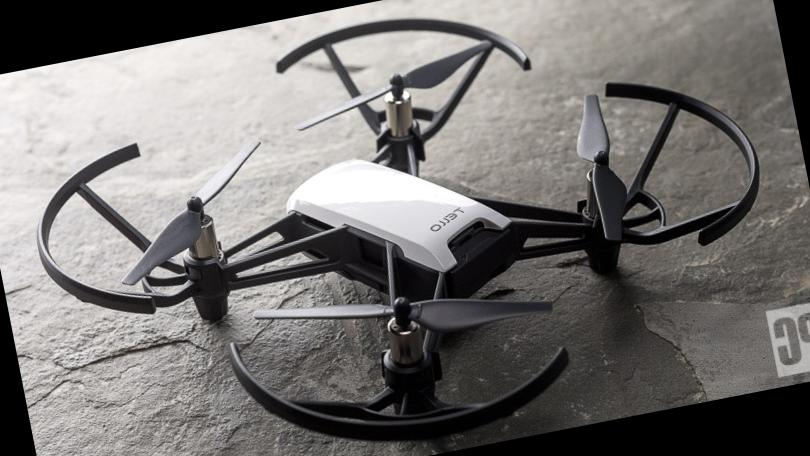drone: (0, 0, 799, 456)
